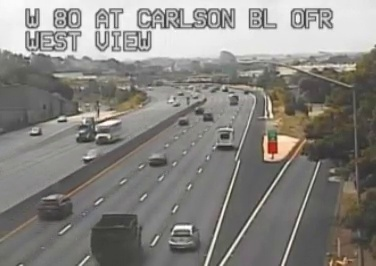bus: (215, 128, 234, 149)
car: (37, 194, 72, 218), (169, 224, 199, 249), (148, 153, 165, 165)
small-truck: (91, 215, 141, 252)
